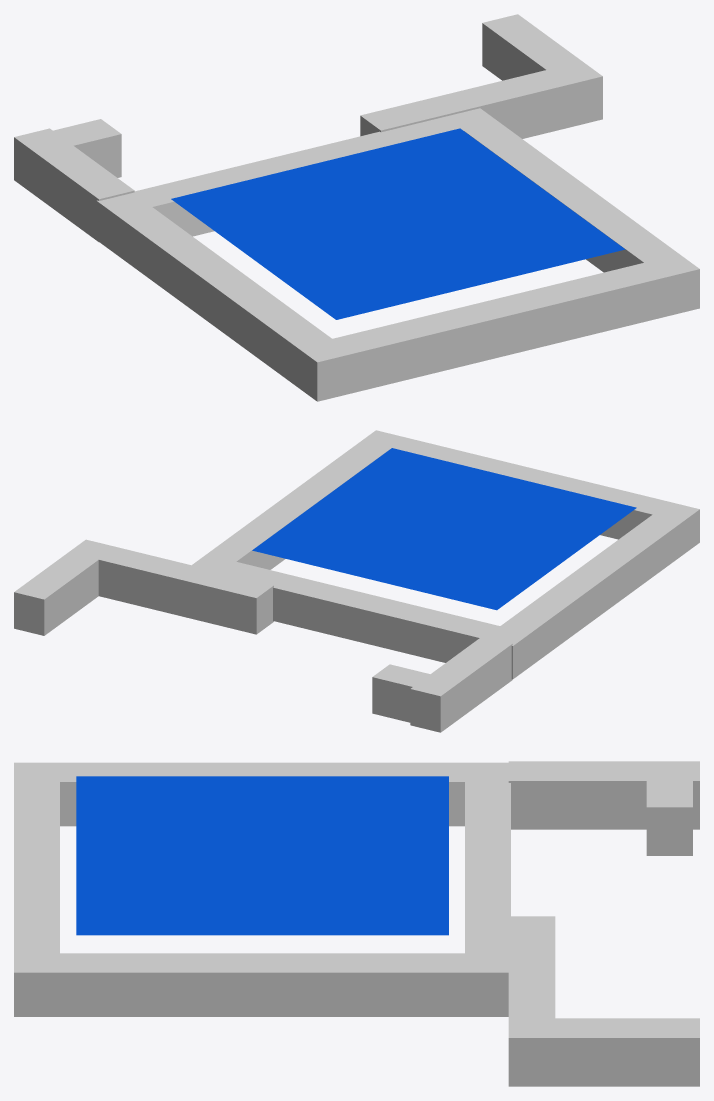
The model's file is center.gltf.
The picture shows the model from 3 angles, top to bottom: view 1: azimuth 30°, elevation 25°; view 2: azimuth 150°, elevation 25°; view 3: azimuth 270°, elevation 25°; orthographic projection. The views are drawn at different scales.
Parts seen in each view (by area): view 1: Cube.4-Mat.1, clickzone, Cube.1, Cube.2, Cube, Cube.3, Cube.4; view 2: clickzone, Cube.4-Mat.1, Cube.1, Cube.2, Cube, Cube.3, Cube.4; view 3: clickzone, Cube.4-Mat.1, Cube, Cube.2, Cube.1, Cube.3, Cube.4.
Part boxes in pixels (box(x1,y1,x2,y2)): Cube.4-Mat.1: box(96, 108, 699, 401); clickzone: box(171, 128, 625, 319); Cube.1: box(360, 65, 587, 138); Cube.2: box(14, 128, 134, 241); Cube: box(482, 14, 602, 122); Cube.3: box(20, 119, 121, 177); Cube.4: box(152, 131, 643, 272); clickzone: box(252, 448, 636, 610); Cube.4-Mat.1: box(192, 430, 699, 679); Cube.1: box(98, 546, 273, 634); Cube.2: box(410, 636, 512, 732); Cube: box(14, 539, 115, 635); Cube.3: box(372, 664, 458, 722); Cube.4: box(236, 451, 652, 569); clickzone: box(76, 776, 448, 935); Cube.4-Mat.1: box(14, 762, 510, 1016); Cube: box(508, 1018, 699, 1086); Cube.2: box(508, 761, 699, 829); Cube.1: box(508, 916, 555, 1029); Cube.3: box(646, 762, 692, 855); Cube.4: box(60, 782, 464, 826).
Size of the model in its own units: 264 by 25.92 by 276.
